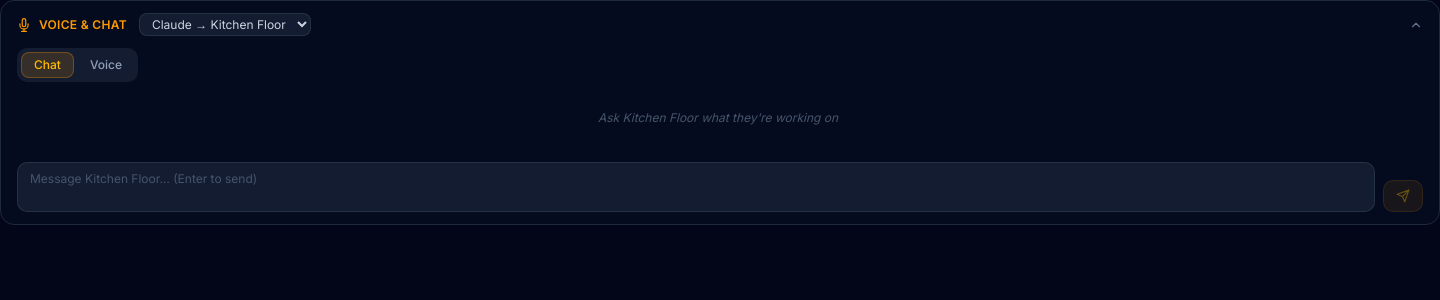
Test: VoicePanel › switches to voice tab and shows mic button
Click the button "voice" at (106, 65), box top-left (78, 52), bottom-right (134, 78)
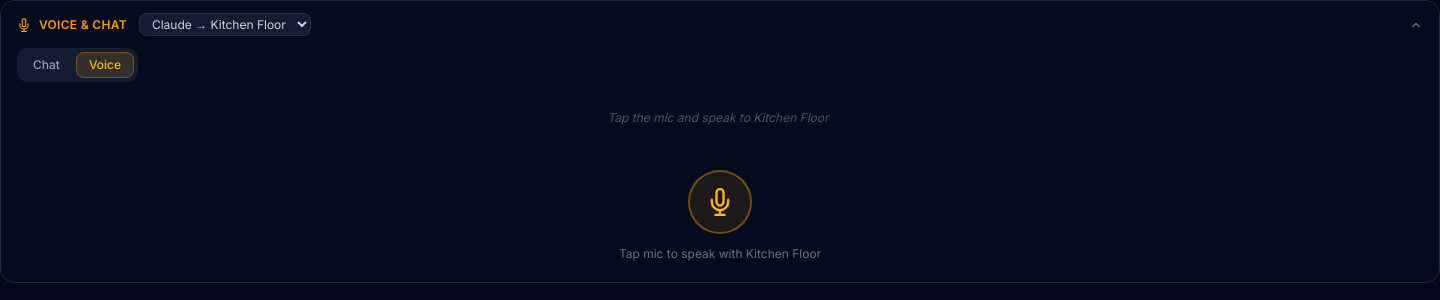
Expected: the button named "Start listening" is shown, top-left (688, 170), bottom-right (752, 234)
